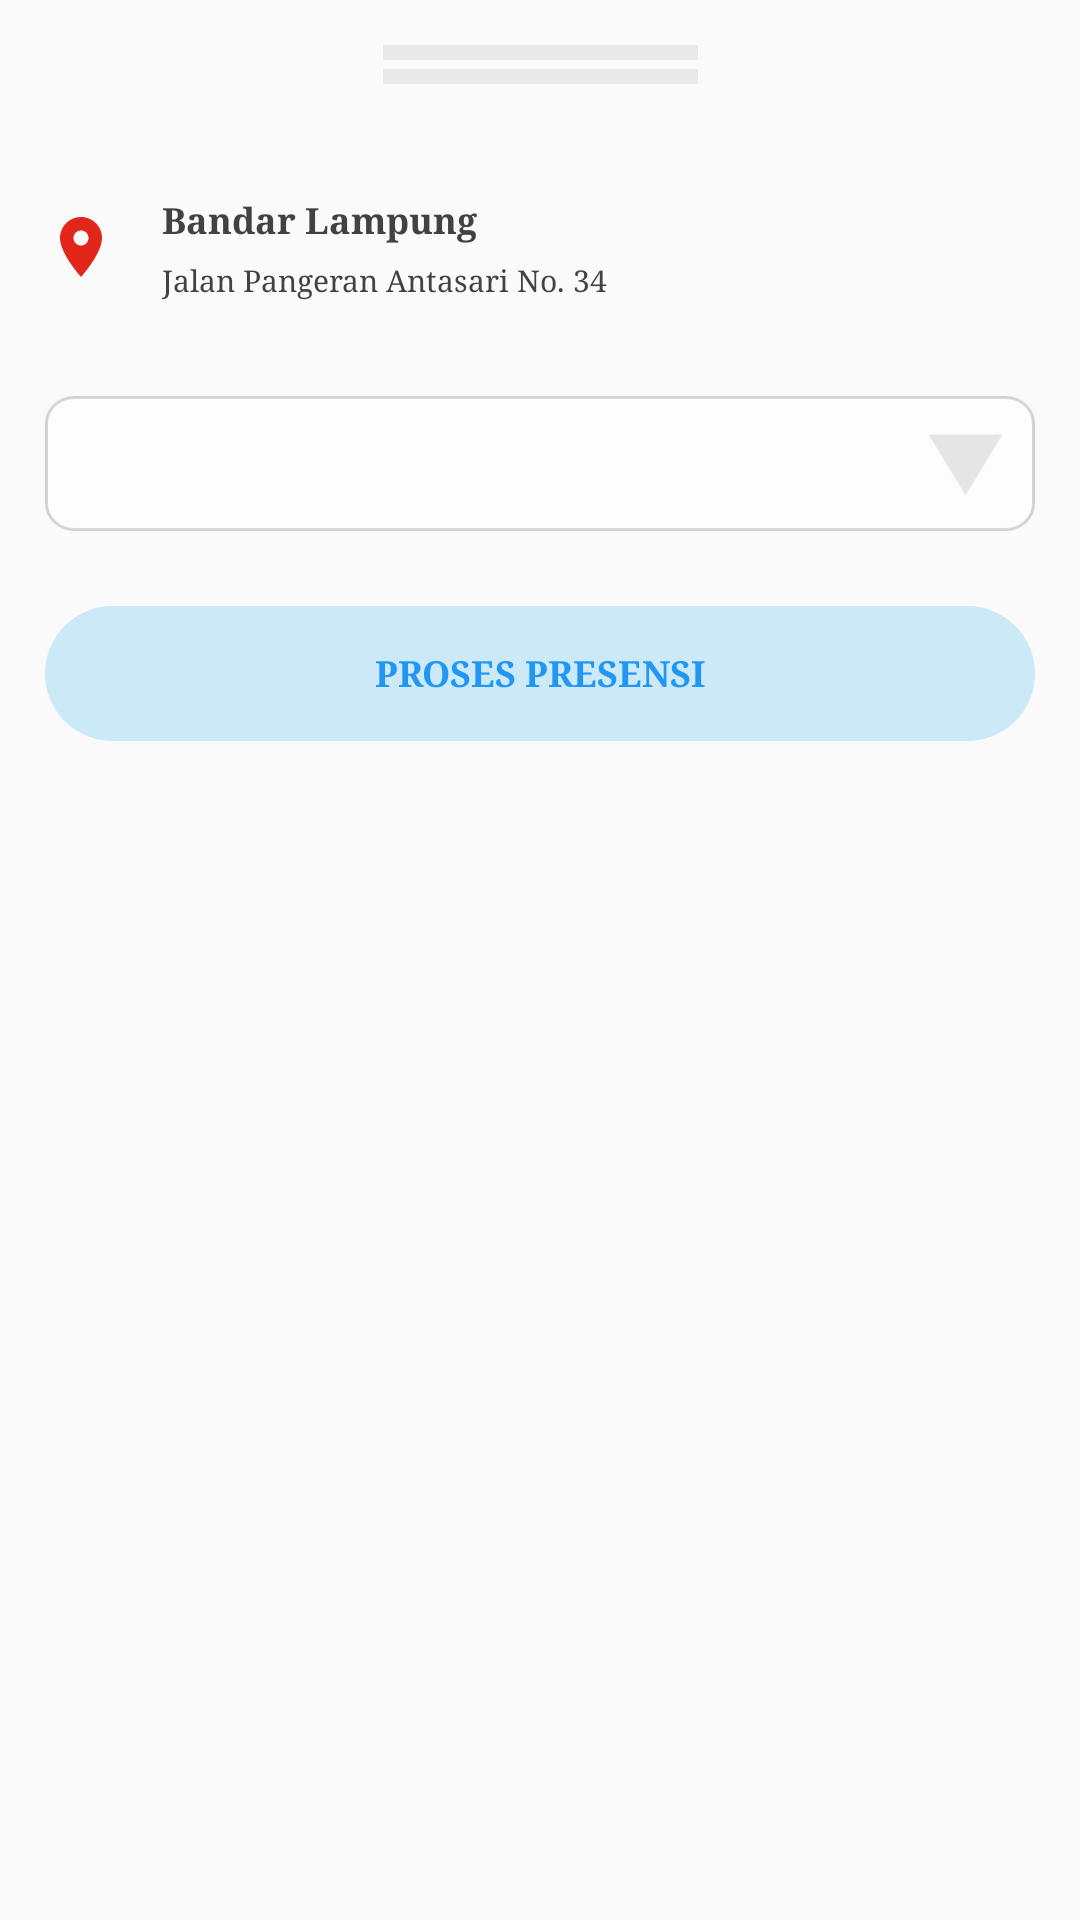

Point at icon controls on the screen. Image size 1080×1920, points as point (x, y).
location: point (81, 247)
